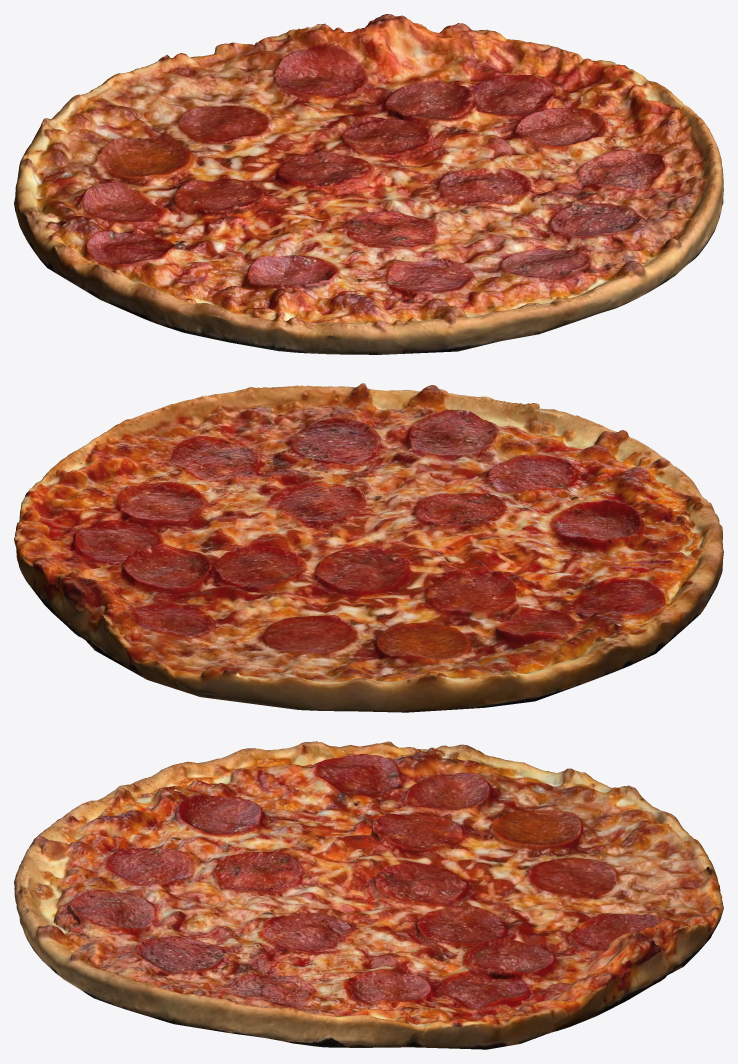
The model's file is pizza-salame.glb.
The picture shows the model from 3 angles, top to bottom: view 1: azimuth 30°, elevation 25°; view 2: azimuth 150°, elevation 25°; view 3: azimuth 270°, elevation 25°; orthographic projection.
Visible parts, largest first — view 1: Object_4; view 2: Object_4; view 3: Object_4.
Part boxes in pixels (box(x1,y1,x2,y2)): Object_4: box(14, 14, 723, 354); Object_4: box(14, 383, 723, 712); Object_4: box(14, 741, 723, 1049).
Bounding box in the file's own units: 0.3436 × 0.0288 × 0.349.
Materials: 1 (1 with a texture image).
